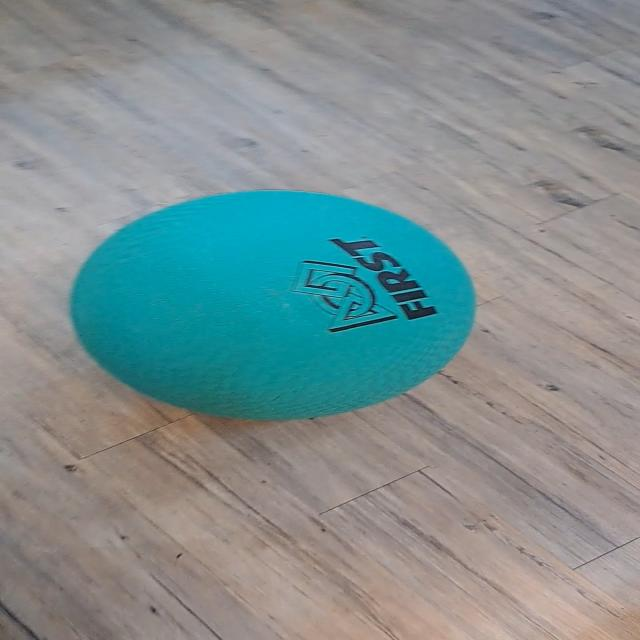ALGAE: (68, 188, 478, 422)
